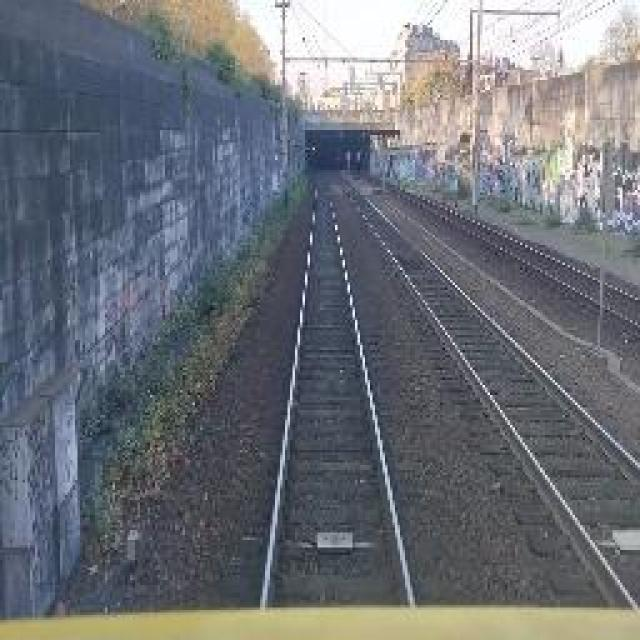rail: (231, 169, 440, 606)
